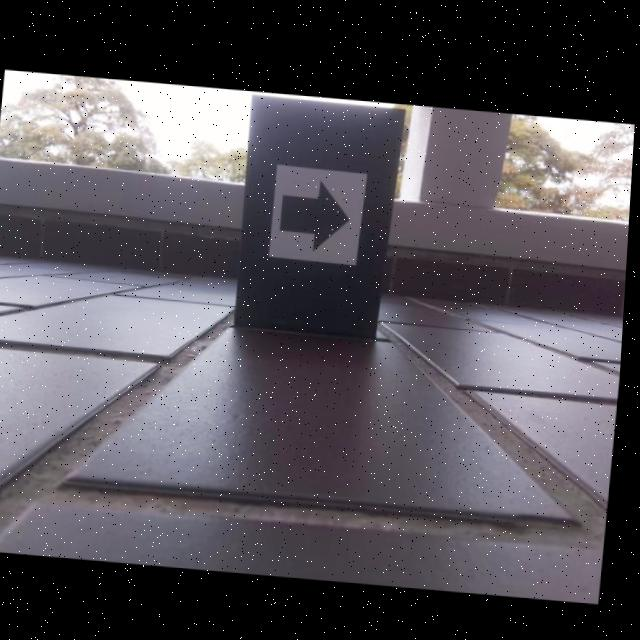RIGHT: (281, 175, 352, 250)
